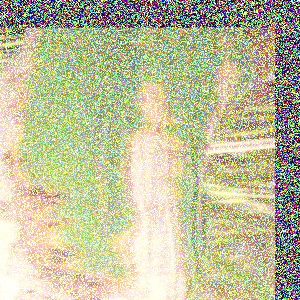Leaf_Blast: (2, 29, 222, 300)
